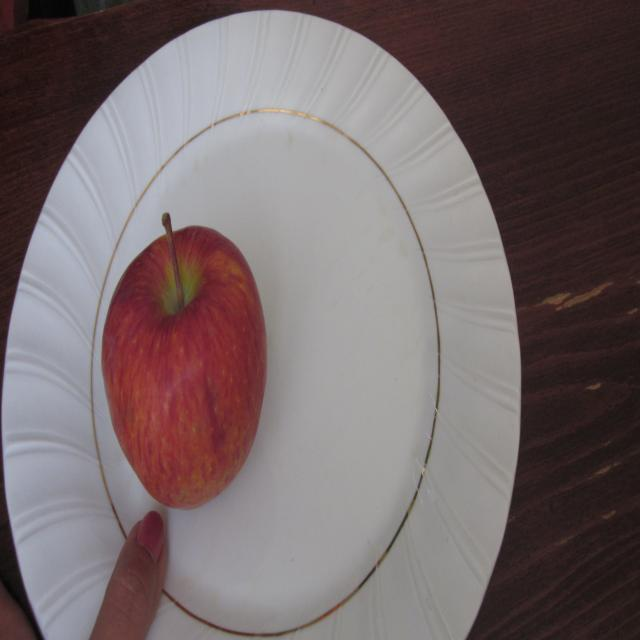Apple: (97, 206, 276, 518)
Finger: (104, 506, 181, 632)
